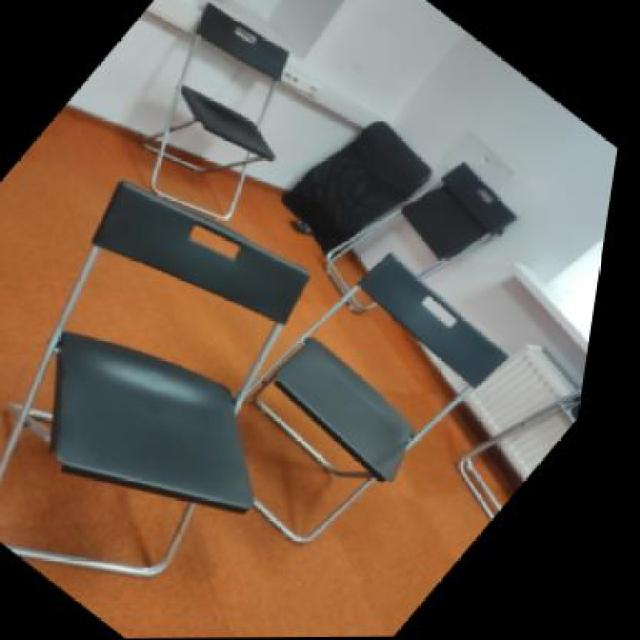chair: (0, 132, 418, 638), (180, 226, 537, 568), (63, 0, 380, 257)
